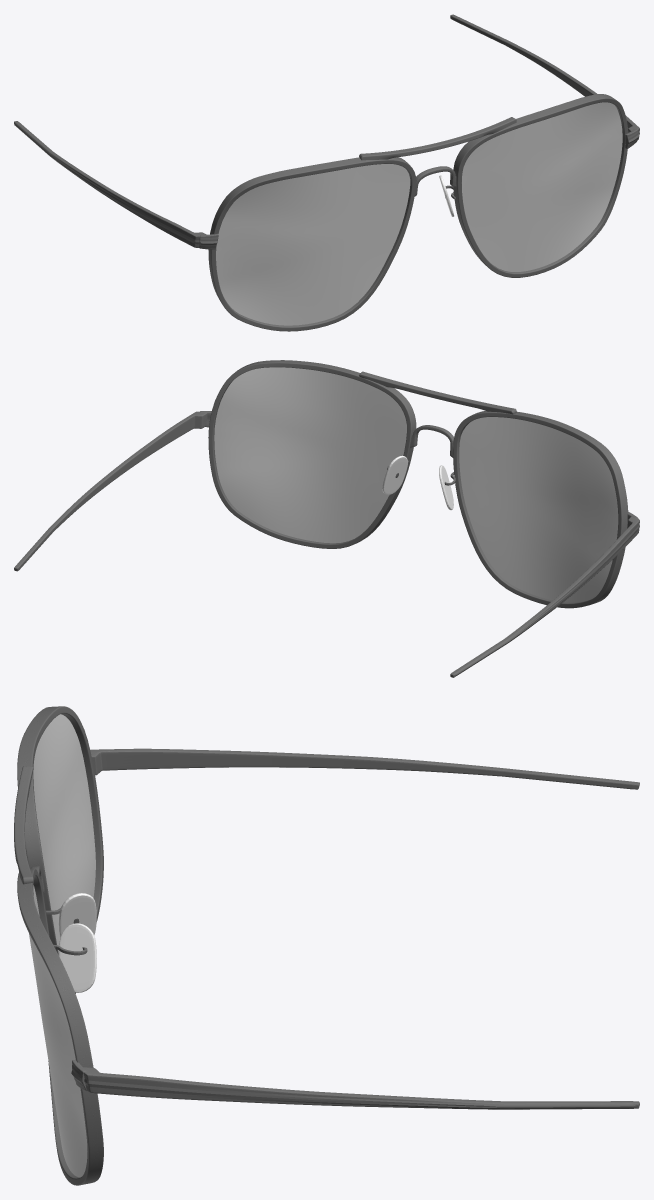
The model's file is chromance_jpg.glb.
The picture shows the model from 3 angles, top to bottom: view 1: azimuth 30°, elevation 25°; view 2: azimuth 150°, elevation 25°; view 3: azimuth 270°, elevation 25°; orthographic projection. The views are drawn at different scales.
Parts seen in each view (by area): view 1: armacao; view 2: armacao; view 3: armacao.
Boxes of the visible parts, x1,y1,x2,y2 form: armacao: (14, 14, 639, 331); armacao: (14, 360, 639, 677); armacao: (14, 706, 639, 1185).
Bounding box in the file's own units: 0.157 × 0.0556 × 0.1217.
Materials: 3 (1 with a texture image).
